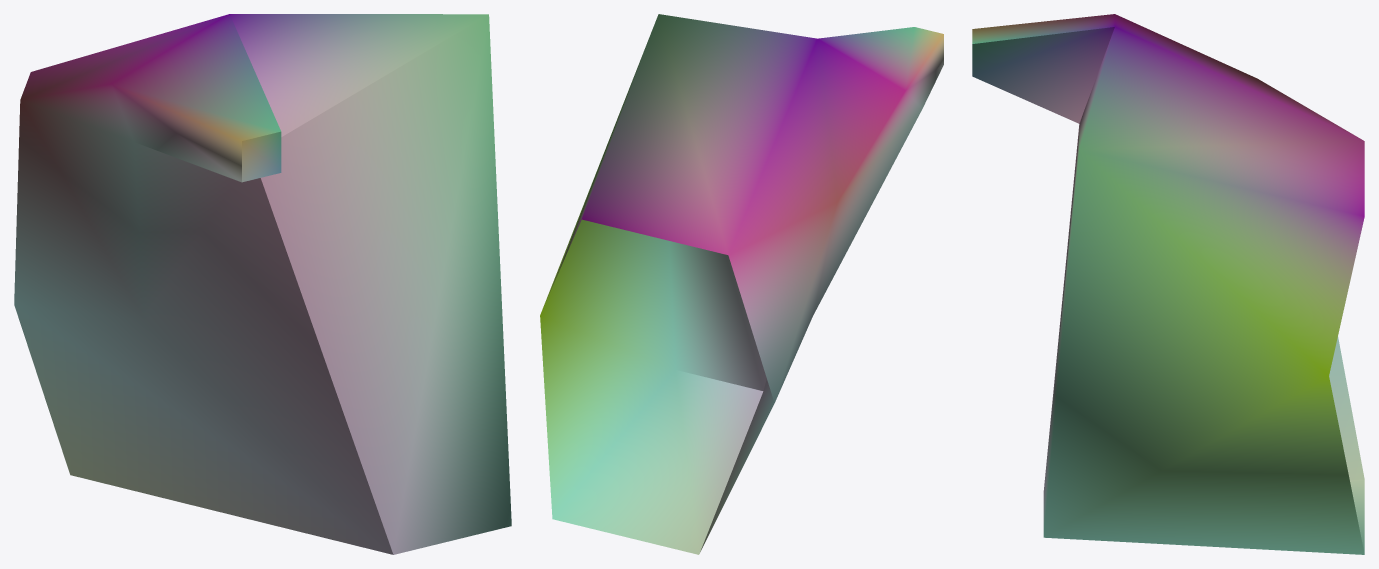
3 renders of one model, left to right at view 1: azimuth 30°, elevation 25°; view 2: azimuth 150°, elevation 25°; view 3: azimuth 270°, elevation 25°, orthographic. The views are drawn at different scales.
Parts seen in each view (by area): view 1: part; view 2: part; view 3: part.
Boxes of the visible parts, x1,y1,x2,y2 form: part: [14, 14, 511, 554]; part: [540, 14, 943, 554]; part: [972, 14, 1364, 554].
Bounding box in the file's own units: 9 × 14 × 11.
